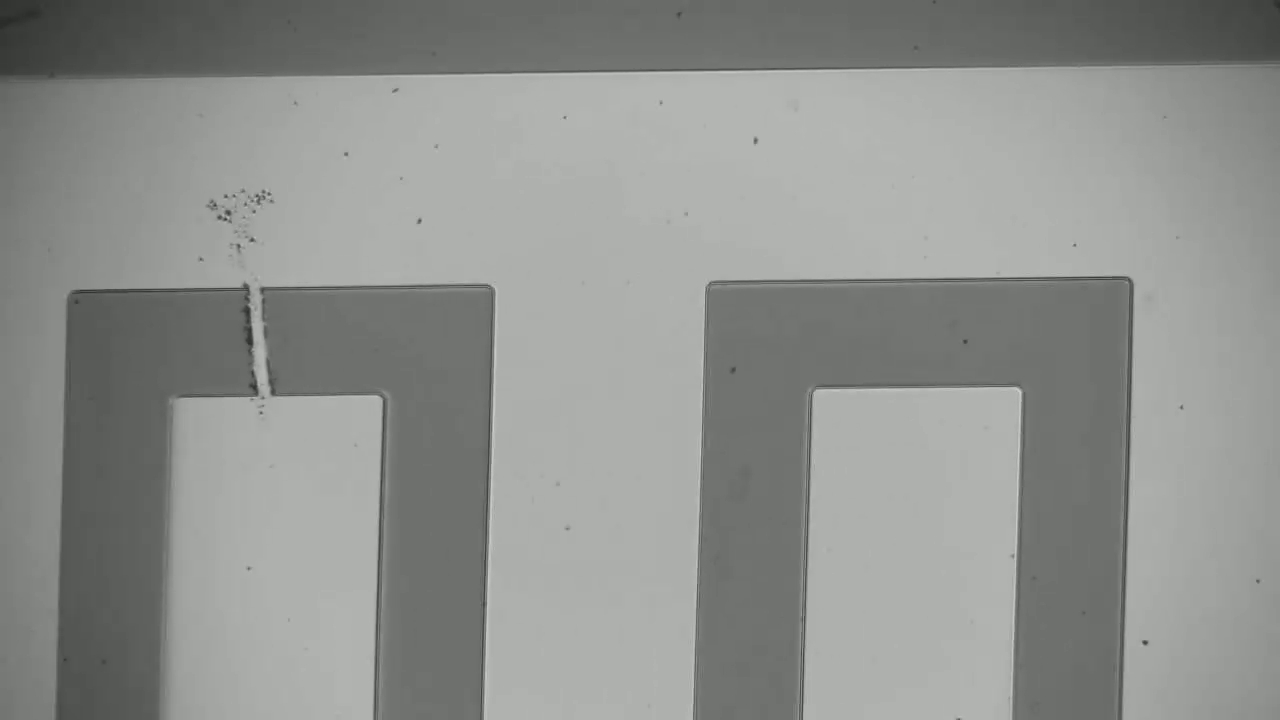Short_circuit: (225, 264, 310, 424)
